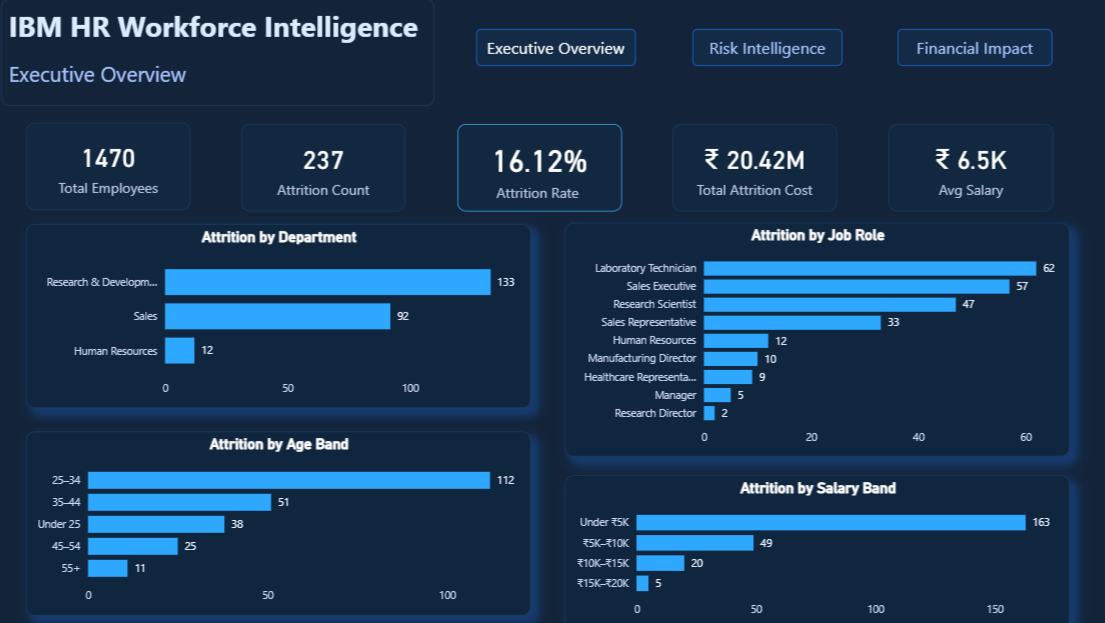

What the dashboard file says about the page in this screenshot:
{"tool":"powerbi","page":{"name":"Executive Overview","canvas":[1280,720],"ordinal":0},"visuals":[{"type":"textbox","box":[9.6,0,495.4,122.1],"z":0},{"type":"card","fields":{"Values":["hr_analytics hr_employee_data.Total Employees"]},"box":[38.4,141,188,100.2],"z":1000},{"type":"card","fields":{"Values":["hr_analytics hr_employee_data.Attrition Count"]},"box":[284.7,142.3,188,100.2],"z":2000},{"type":"card","fields":{"Values":["hr_analytics hr_employee_data.Attrition Rate %"]},"box":[531,142.3,188,100.2],"z":3000},{"type":"card","fields":{"Values":["hr_analytics hr_employee_data.Total Attrition Cost"]},"box":[777.4,142.3,188,100.2],"z":4000},{"type":"card","fields":{"Values":["hr_analytics hr_employee_data.Avg Salary"]},"box":[1023.7,142.3,188,100.2],"z":5000},{"type":"clusteredBarChart","title":"Attrition by Department","fields":{"Category":["hr_analytics hr_employee_data.department"],"Y":["hr_analytics hr_employee_data.Attrition Count"]},"box":[38.4,256.6,577,210],"z":6000},{"type":"clusteredBarChart","title":"Attrition by Job Role","fields":{"Category":["hr_analytics hr_employee_data.job_role"],"Y":["hr_analytics hr_employee_data.Attrition Count"]},"box":[655,256.2,577,267.5],"z":7000},{"type":"clusteredBarChart","title":"Attrition by Age Band","fields":{"Y":["hr_analytics hr_employee_data.Attrition Count"],"Category":["hr_analytics hr_employee_data.Age Band"]},"box":[38.8,493.8,577,210],"z":8000},{"type":"clusteredBarChart","title":"Attrition by Salary Band","fields":{"Y":["hr_analytics hr_employee_data.Attrition Count"],"Category":["hr_analytics hr_employee_data.Salary Band"]},"box":[654.5,544.8,577,175.6],"z":9000},{"type":"textbox","box":[553,34.3,182.5,42.5],"z":10000},{"type":"textbox","box":[799.3,34.3,171.5,42.5],"z":11000},{"type":"textbox","box":[1034.7,34.3,177,42.5],"z":12000},{"type":"actionButton","box":[554.4,35.7,181.1,39.8],"z":13000},{"type":"actionButton","box":[800,35.7,171.5,39.8],"z":14000},{"type":"actionButton","box":[1034.7,37,177,39.8],"z":15000}]}

Visuals, with their boxes in screenshot pixels (x1, y1, x2, y2), scaled from the page's 1280x720 canvas onto the 1105x623 screenshot:
textbox: (8, 0, 436, 106)
card - hr_analytics hr_employee_data.Total Employees: (33, 122, 195, 209)
card - hr_analytics hr_employee_data.Attrition Count: (246, 123, 408, 210)
card - hr_analytics hr_employee_data.Attrition Rate %: (458, 123, 621, 210)
card - hr_analytics hr_employee_data.Total Attrition Cost: (671, 123, 833, 210)
card - hr_analytics hr_employee_data.Avg Salary: (884, 123, 1046, 210)
"Attrition by Department" clusteredBarChart: (33, 222, 531, 404)
"Attrition by Job Role" clusteredBarChart: (565, 222, 1064, 453)
"Attrition by Age Band" clusteredBarChart: (33, 427, 532, 609)
"Attrition by Salary Band" clusteredBarChart: (565, 471, 1063, 622)
textbox: (477, 30, 635, 66)
textbox: (690, 30, 838, 66)
textbox: (893, 30, 1046, 66)
actionButton: (479, 31, 635, 65)
actionButton: (691, 31, 839, 65)
actionButton: (893, 32, 1046, 66)
